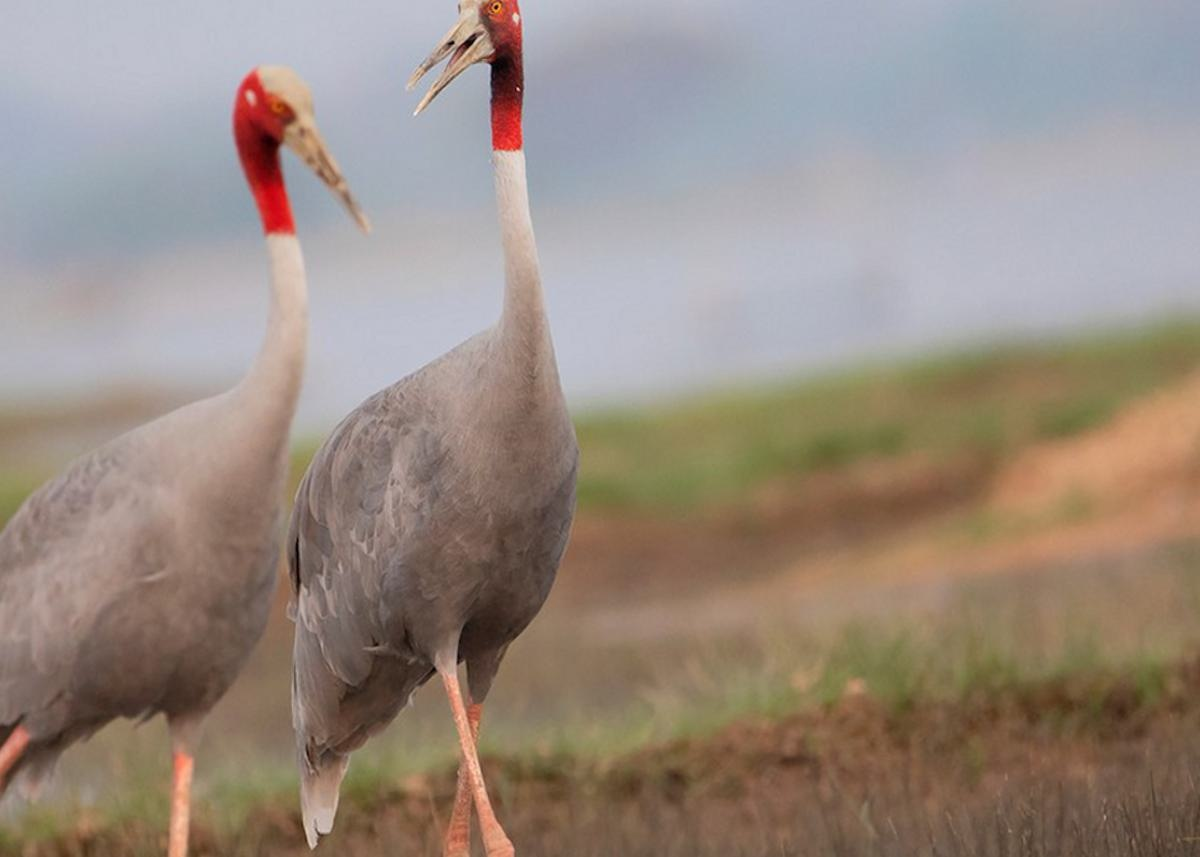crane: (1, 68, 369, 857), (347, 5, 604, 857)
